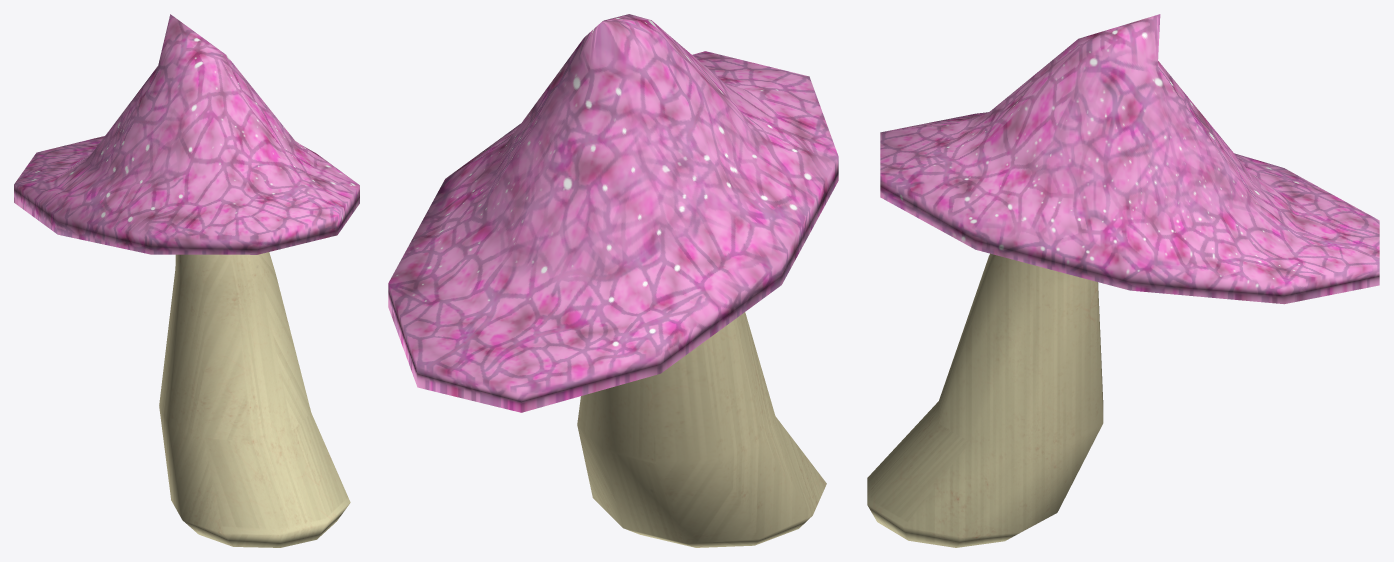
The model's file is largemushroom_textured_rae.fbx.
3 views of the same model, side by side, from view 1: azimuth 30°, elevation 25°; view 2: azimuth 150°, elevation 25°; view 3: azimuth 270°, elevation 25° (orthographic). The views are drawn at different scales.
Visible parts, largest first — view 1: BigShroom; view 2: BigShroom; view 3: BigShroom.
Part boxes in pixels (x1=…): BigShroom: x1=14, y1=14, x2=359, y2=547; BigShroom: x1=388, y1=14, x2=838, y2=547; BigShroom: x1=867, y1=14, x2=1379, y2=547.
Bounding box in the file's own units: 0.5654 × 0.9183 × 0.8595.
Materials: 1 (1 with a texture image).
